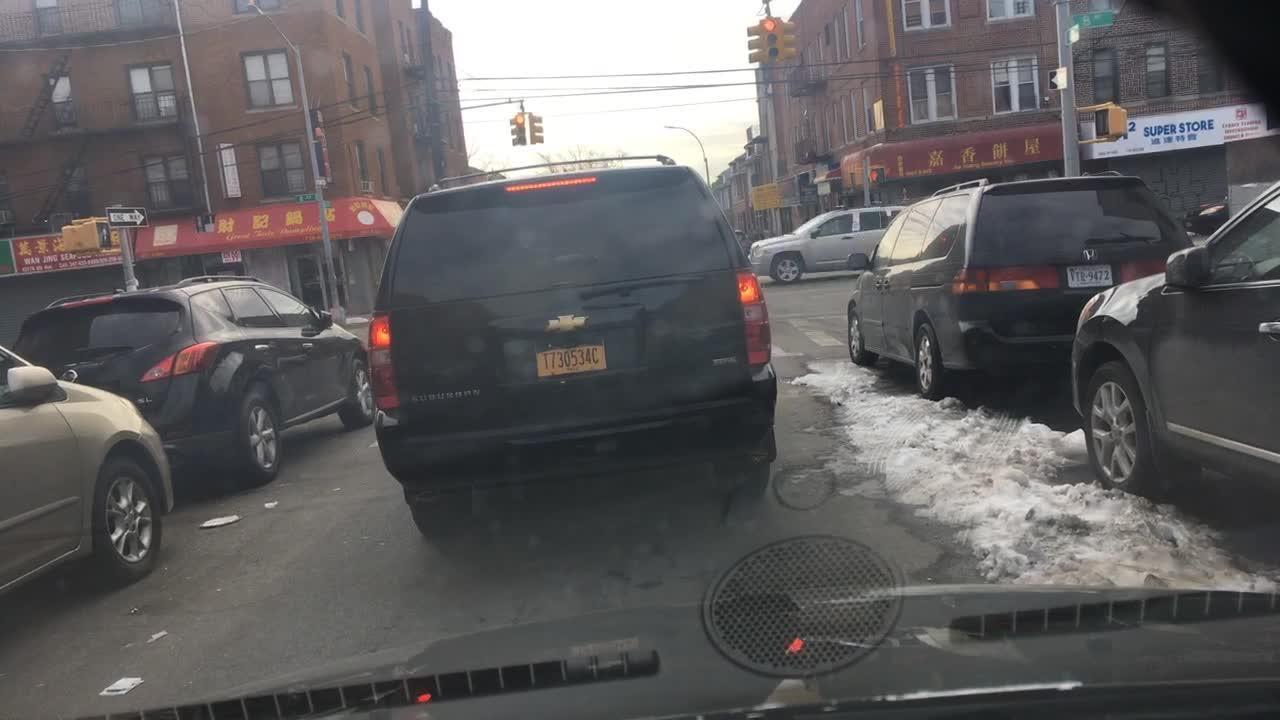Honda: (1078, 246, 1103, 265)
chevrolet: (545, 314, 588, 334)
